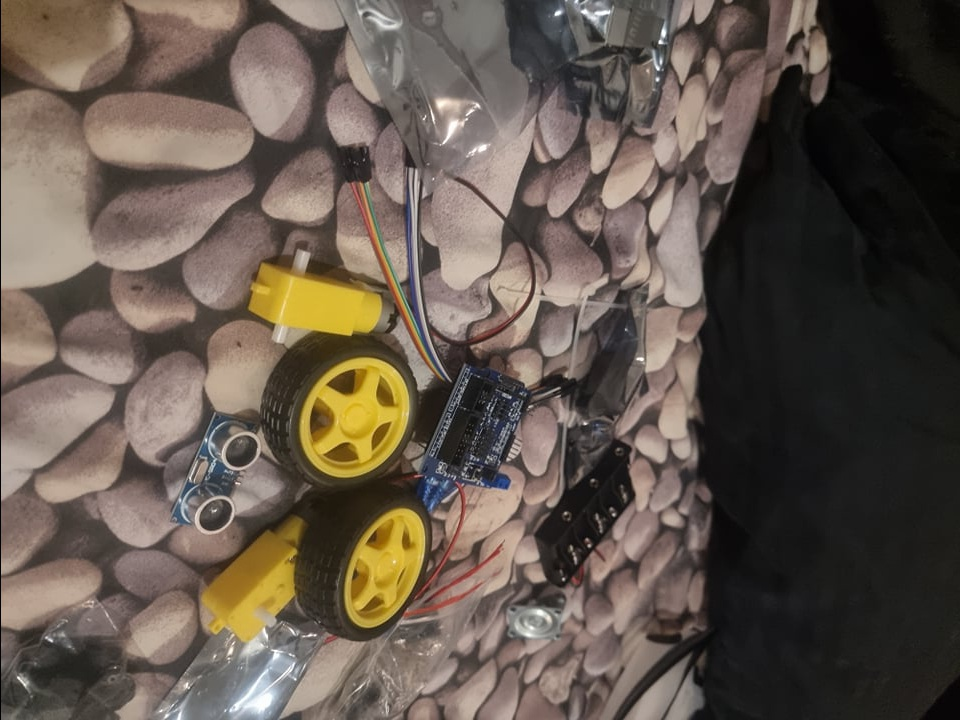5V EXPANSION: (417, 360, 530, 491)
BATTERY BOX: (533, 446, 654, 588)
SENSOR: (177, 416, 261, 537)
